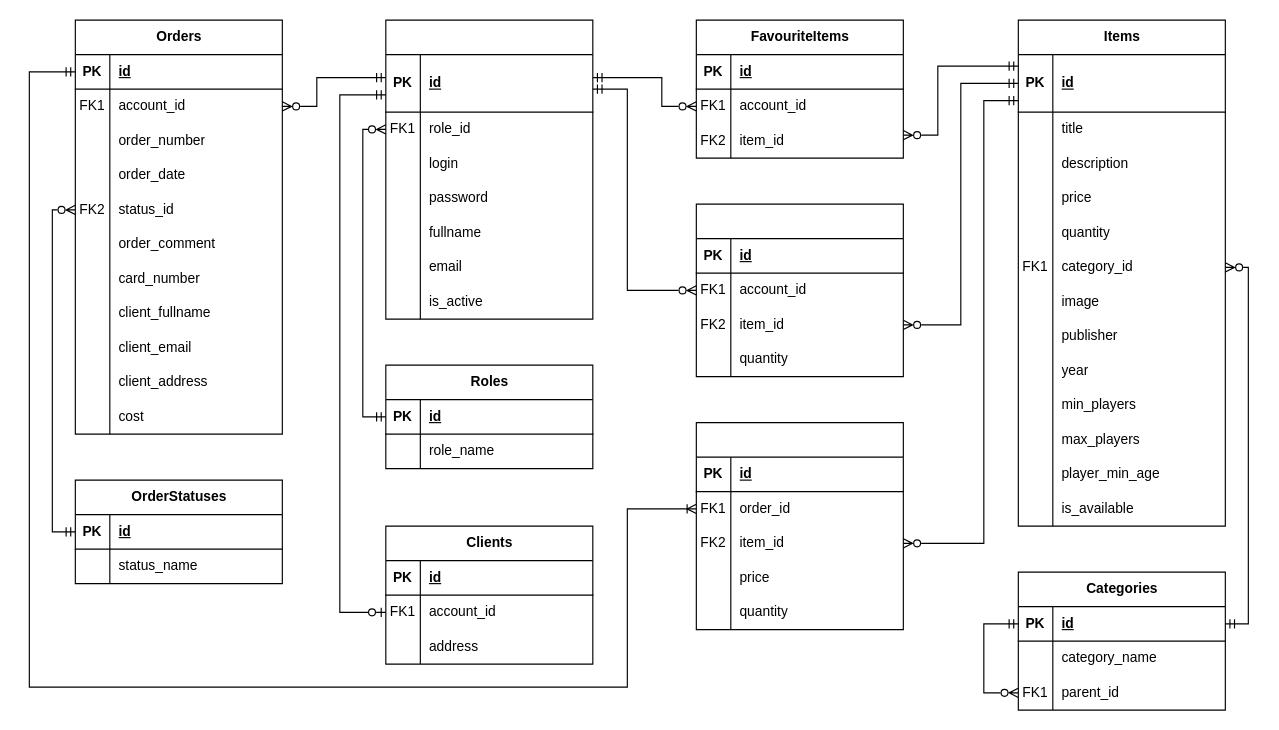
Image size: 1279x730. Some labels were removed from this diagram. The box of each missing label's shape, as (x1, y1, x2, y2) in pixels:
Accounts: (385, 19, 593, 319)
CartItems: (695, 203, 903, 377)
OrderedItems: (695, 421, 903, 630)
